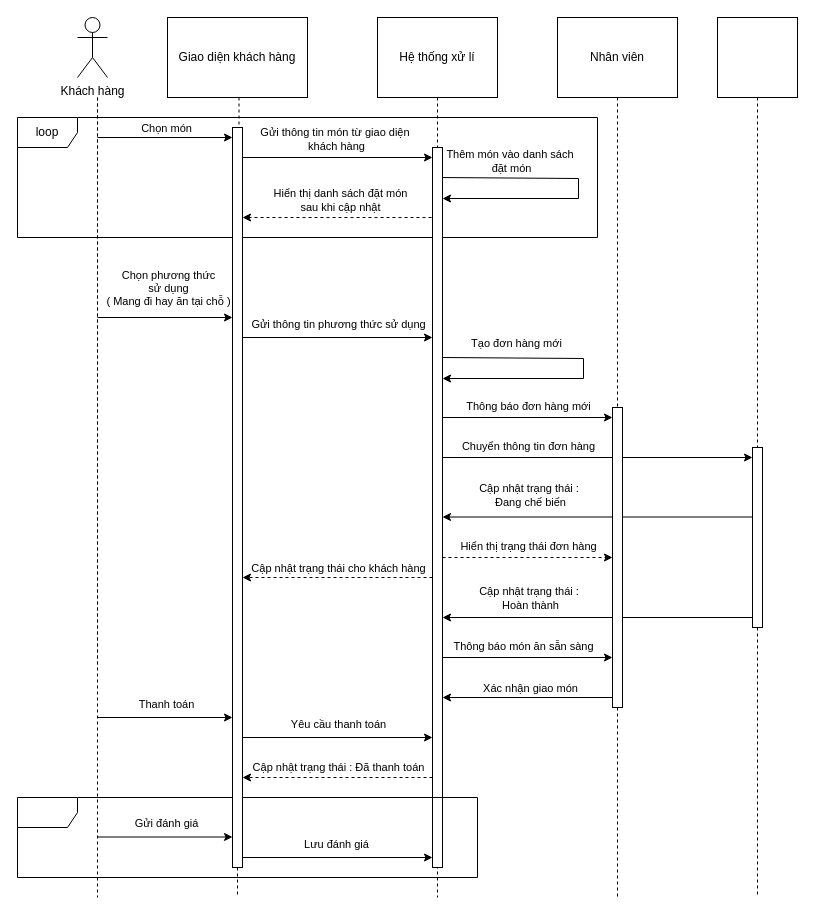
This 815x916 diagram has some shape labels left out. The shapes that lost their labels are listed below. From the top down, each one's centre as x and y in pixels, then its label:
At (757,57): "Bếp".
At (247,837): "opt".
